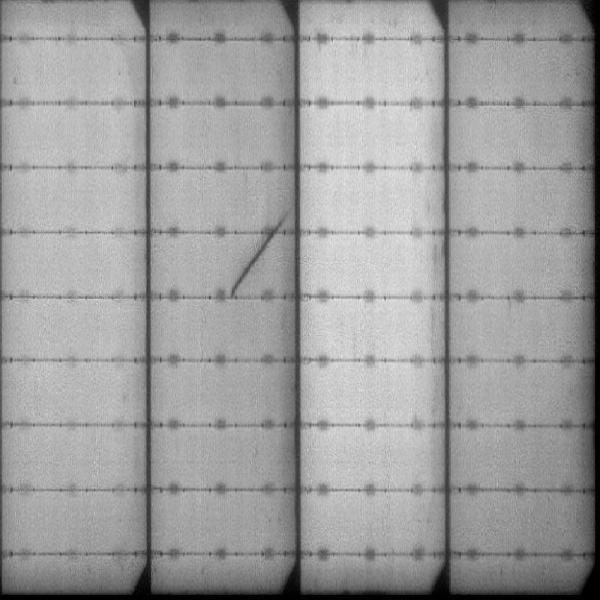scratch: (229, 210, 289, 297)
